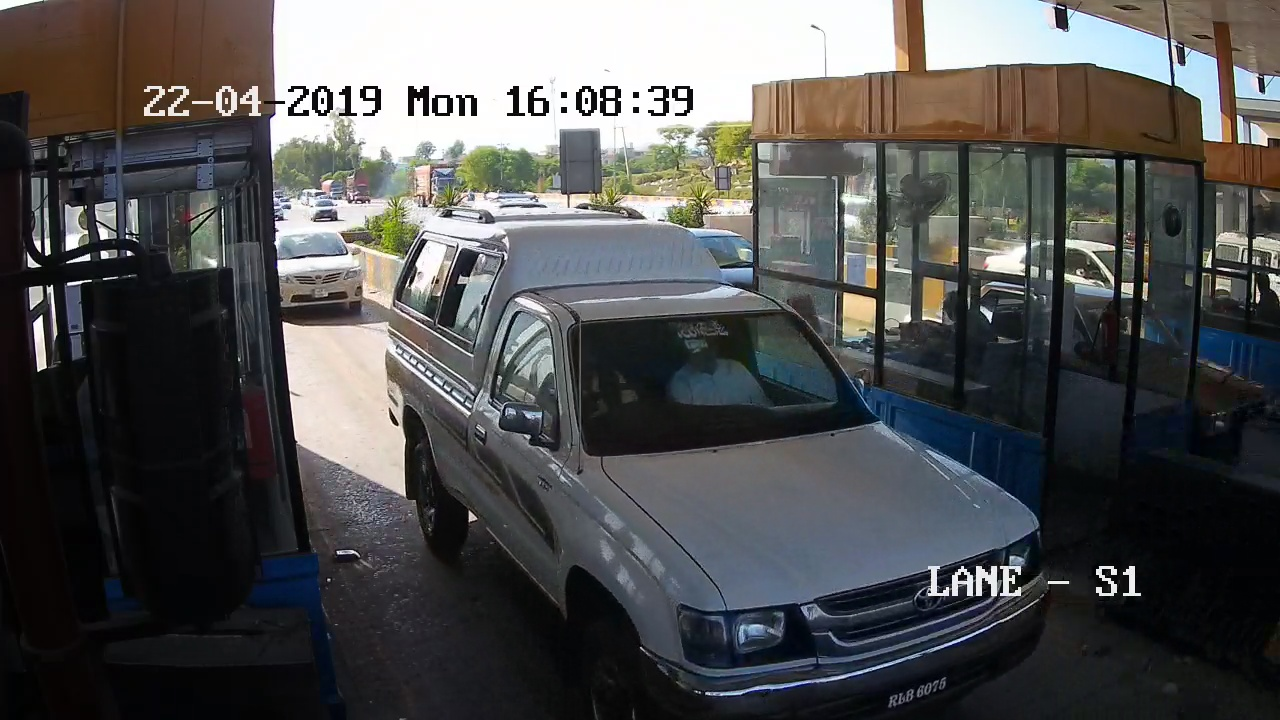Number Plate (Car): (882, 675, 948, 708), (308, 287, 331, 298)
